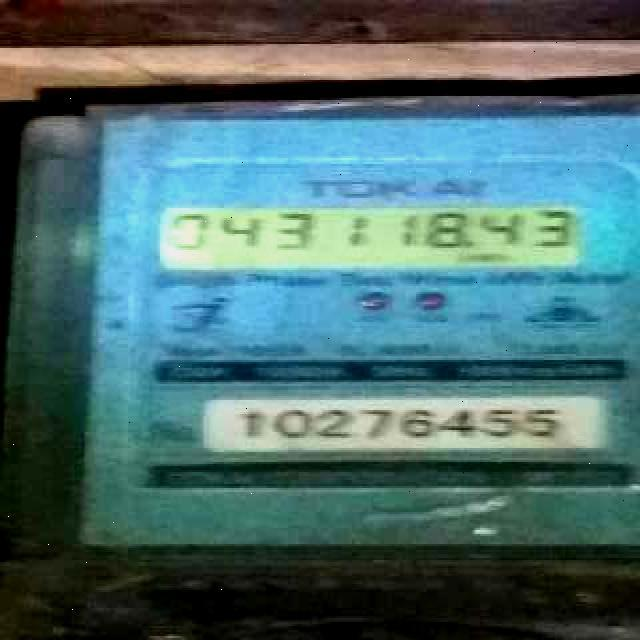LCD: (146, 201, 597, 270)
